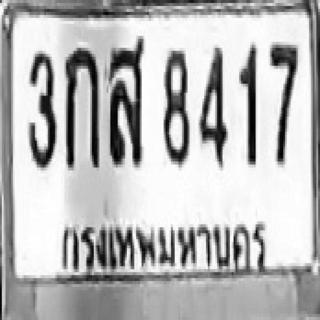A01: (64, 45, 98, 168)
A40: (108, 34, 144, 163)
N01: (237, 42, 257, 164)
N03: (26, 48, 55, 168)
N04: (199, 45, 226, 165)
N07: (268, 43, 298, 163)
N08: (162, 48, 188, 165)
P04: (53, 213, 272, 279)
